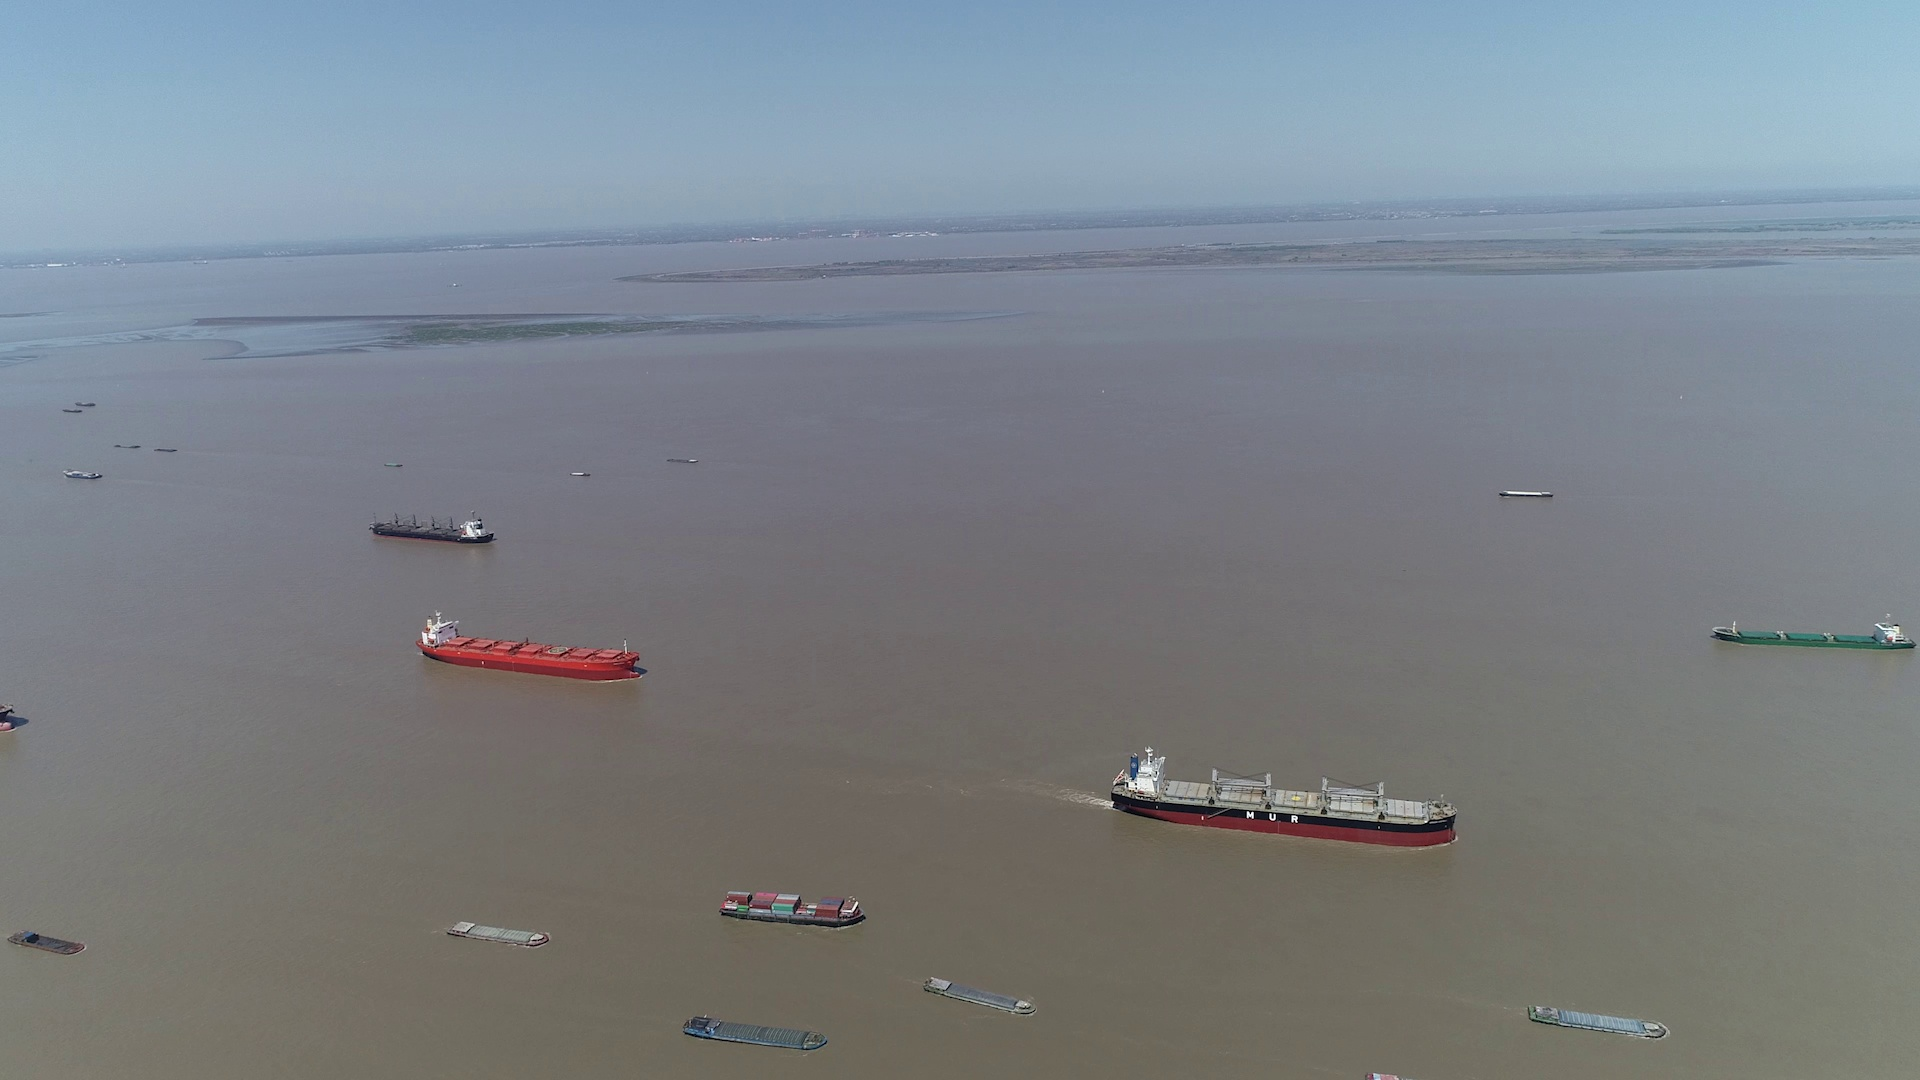ship: (1106, 749, 1458, 845), (414, 611, 641, 678), (1712, 620, 1913, 651), (683, 1015, 828, 1054), (721, 891, 866, 928), (1527, 1004, 1669, 1039), (924, 975, 1036, 1015), (369, 512, 495, 545), (444, 919, 549, 948), (12, 928, 84, 953), (1501, 488, 1555, 498), (63, 468, 102, 480)
